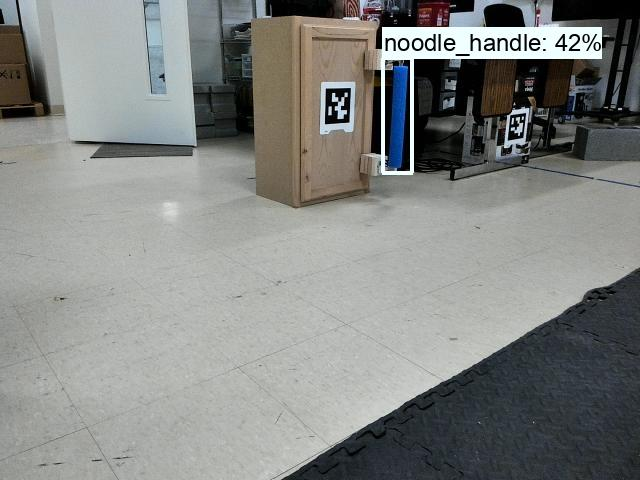noodle_handle: (381, 60, 413, 171)
